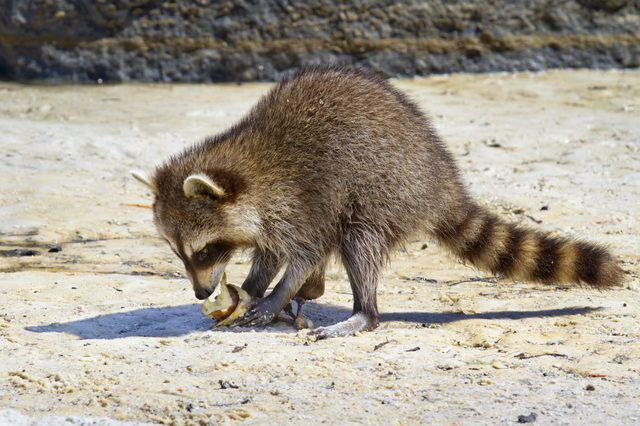raccoon: (130, 60, 628, 342)
